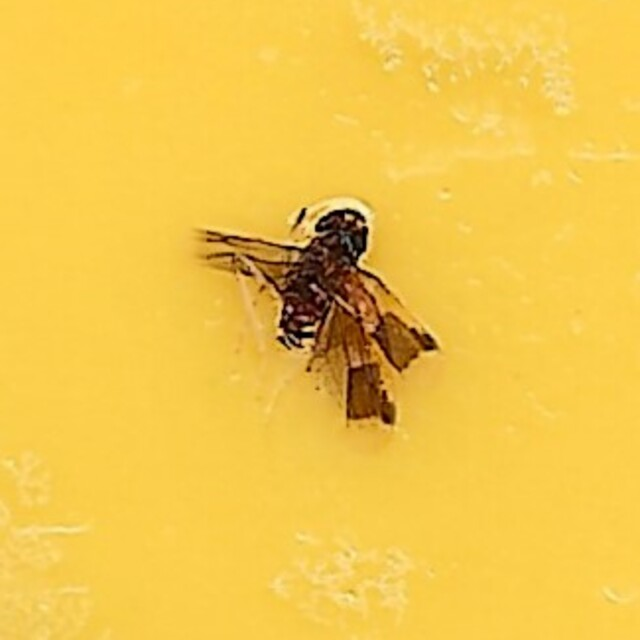Hemiptera: (197, 200, 443, 440)
